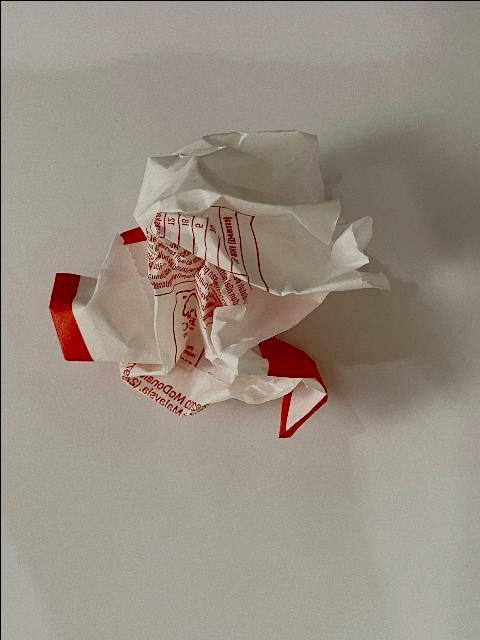paperbag: (46, 128, 390, 440)
